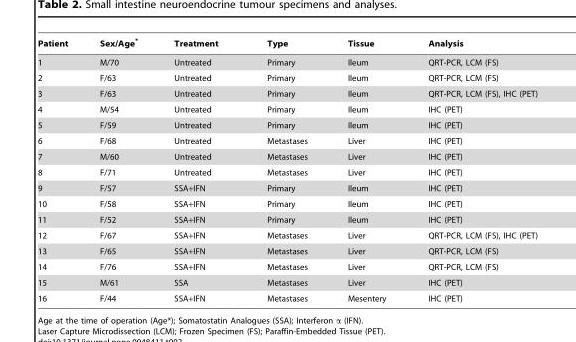table: (37, 37, 536, 303)
table column: (406, 37, 536, 303), (155, 37, 241, 303), (241, 37, 326, 303), (326, 37, 406, 303), (83, 37, 155, 303), (37, 37, 83, 303)
table column header: (37, 37, 536, 52)
table row: (37, 52, 536, 69), (37, 69, 536, 85), (37, 85, 536, 101), (37, 101, 536, 117), (37, 132, 536, 148), (37, 148, 536, 164), (37, 179, 536, 195), (37, 210, 536, 226), (37, 226, 536, 242), (37, 242, 536, 258), (37, 258, 536, 274), (37, 37, 536, 52), (37, 117, 536, 132), (37, 164, 536, 179), (37, 195, 536, 210), (37, 274, 536, 289), (37, 289, 536, 303)
